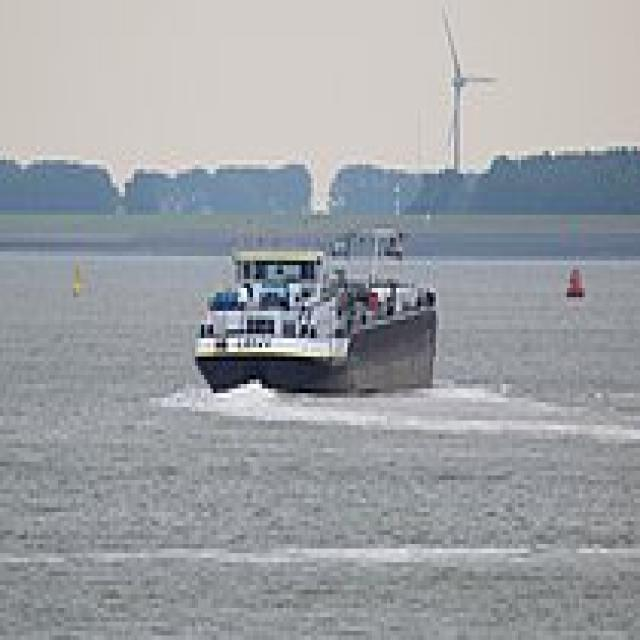Tanker: (189, 228, 442, 398)
